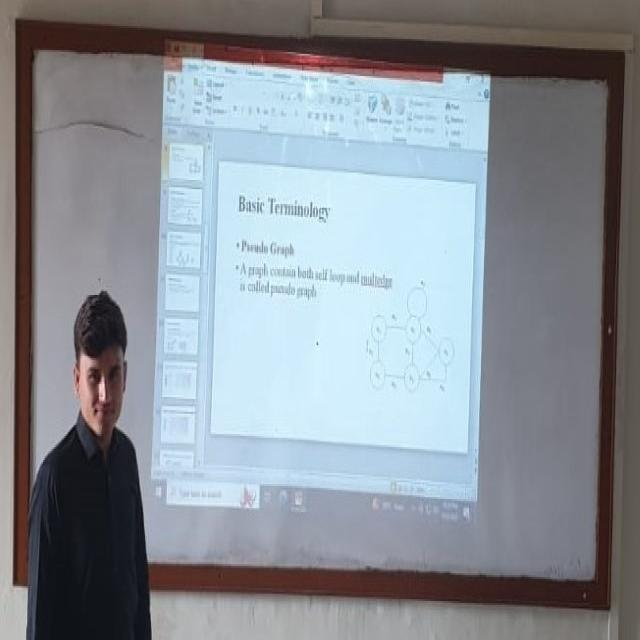Instructor: (42, 269, 154, 640)
Slide: (147, 40, 490, 535)
White-board: (23, 25, 615, 593)
